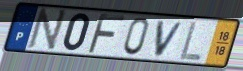0: (61, 12, 92, 53), (123, 17, 151, 57)
F: (85, 12, 127, 56)
L: (177, 20, 204, 62)
N: (25, 7, 70, 53)
V: (153, 20, 186, 58)
